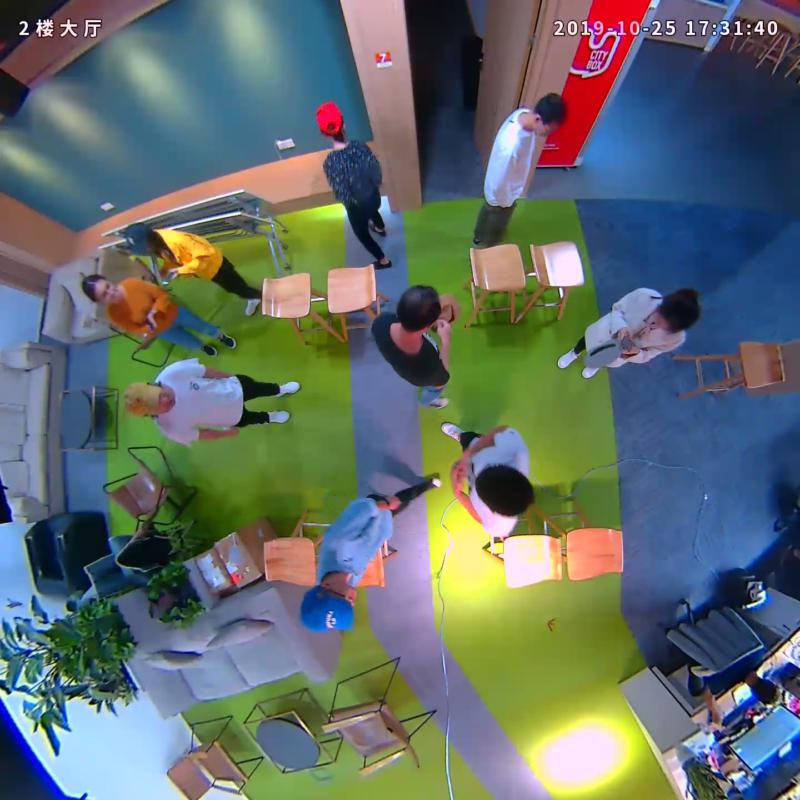head: (474, 462, 535, 518), (299, 578, 358, 630), (396, 285, 443, 335), (122, 381, 175, 417), (654, 291, 699, 332), (531, 92, 567, 138), (123, 222, 158, 259), (82, 273, 121, 304), (315, 101, 345, 140)
